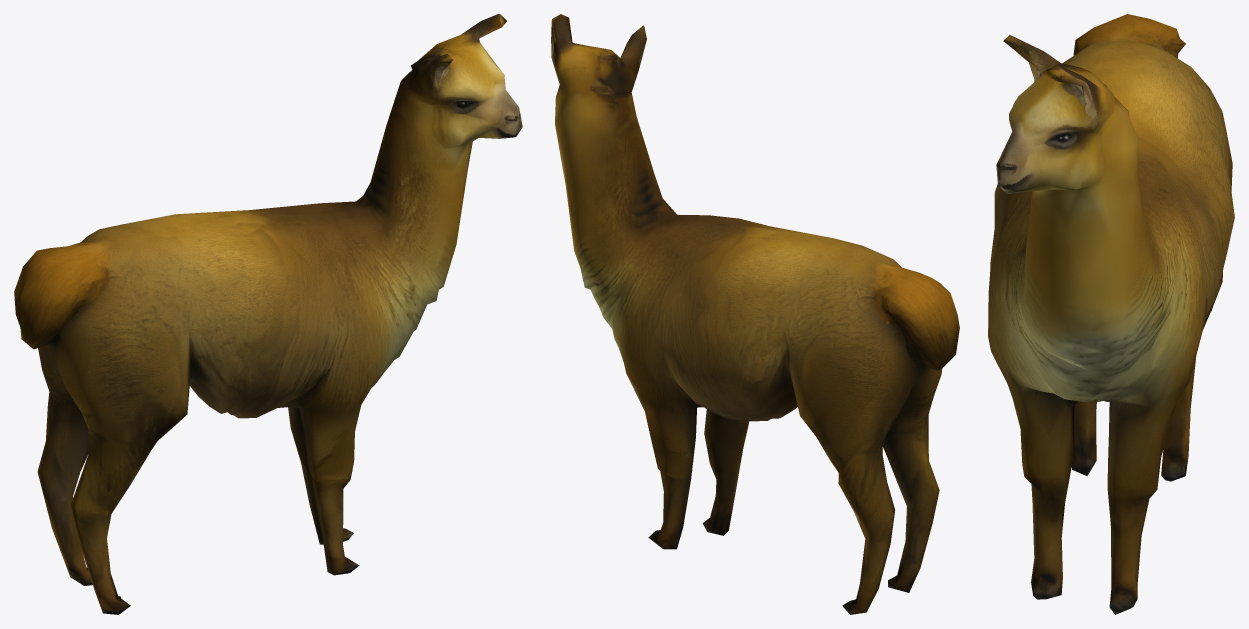
The model's file is llama_brown_single_1500.glb.
3 renders of one model, left to right at view 1: azimuth 30°, elevation 25°; view 2: azimuth 150°, elevation 25°; view 3: azimuth 270°, elevation 25°, orthographic. The views are drawn at different scales.
Size of the model in its own units: 0.8012 by 0.8638 by 0.3071.
1 material, 1 textured.
